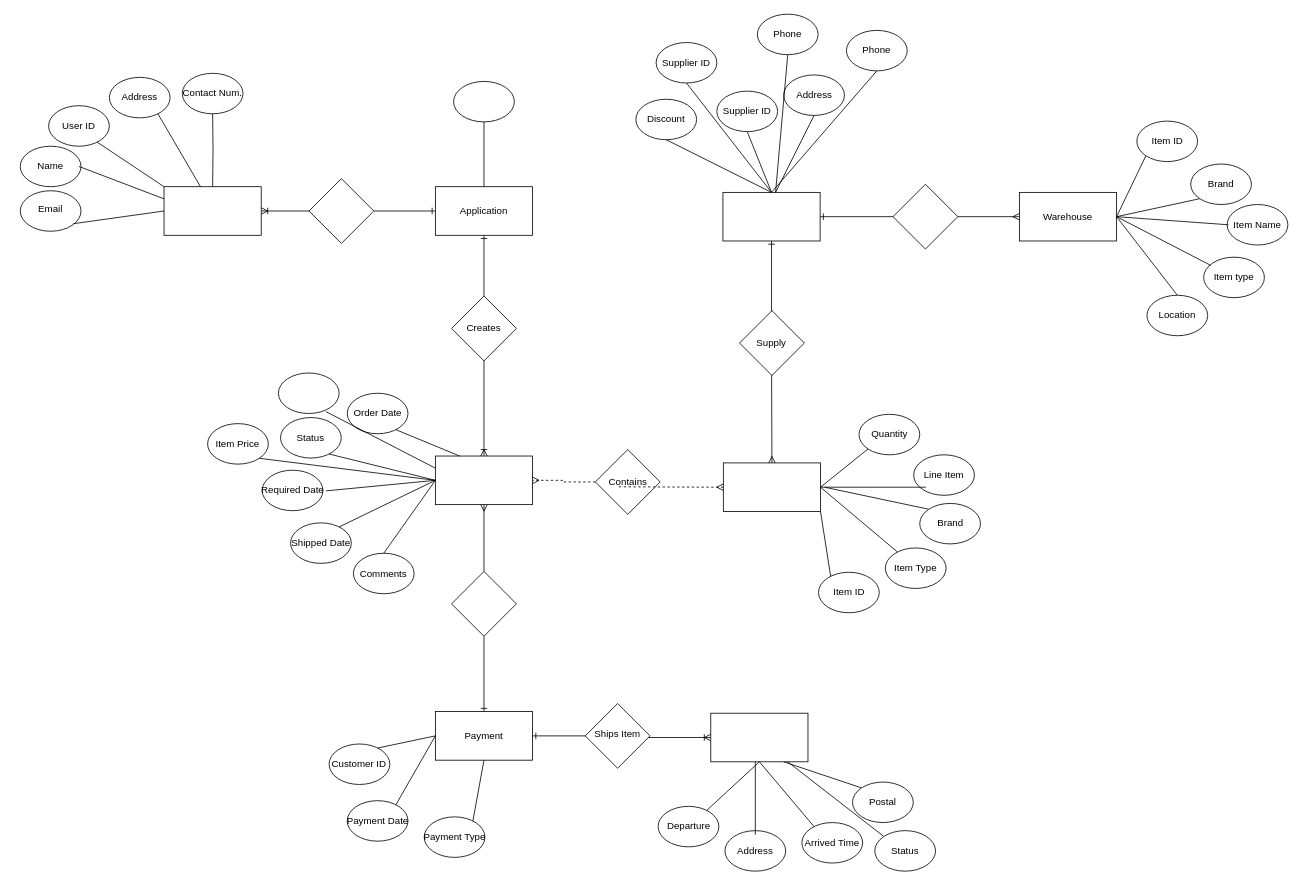
The diagram is 1307 pixels wide and 885 high, and some of its shapes have lost their labels. Each missing label, with the centre of its shape:
"Customer" belongs at pixel 212 210.
"Delivery" belongs at pixel 759 737.
"Interaction" belongs at pixel 341 210.
"Items" belongs at pixel 772 487.
"Order" belongs at pixel 484 480.
"Order ID" belongs at pixel 308 393.
"Preference" belongs at pixel 483 101.
"Process" belongs at pixel 483 603.
"Produce" belongs at pixel 925 216.
"Supplier" belongs at pixel 771 216.
